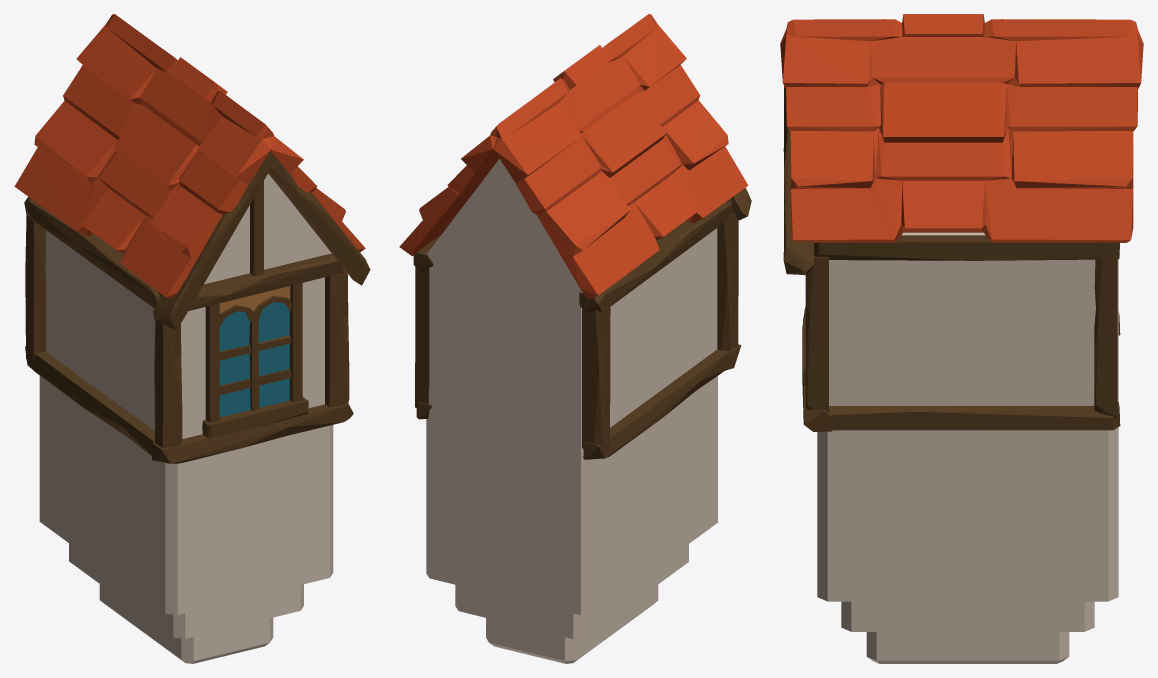
Rendered from SM_dormer_02.fbx.
3 renders of one model, left to right at view 1: azimuth 30°, elevation 25°; view 2: azimuth 150°, elevation 25°; view 3: azimuth 270°, elevation 25°, orthographic. The views are drawn at different scales.
Parts seen in each view (by area): view 1: Object32392; view 2: Object32392; view 3: Object32392.
Boxes of the visible parts, x1=… form: Object32392: x1=14, y1=14, x2=370, y2=663; Object32392: x1=399, y1=14, x2=751, y2=663; Object32392: x1=780, y1=14, x2=1143, y2=663.
Size of the model in its own units: 106 by 268 by 140.
